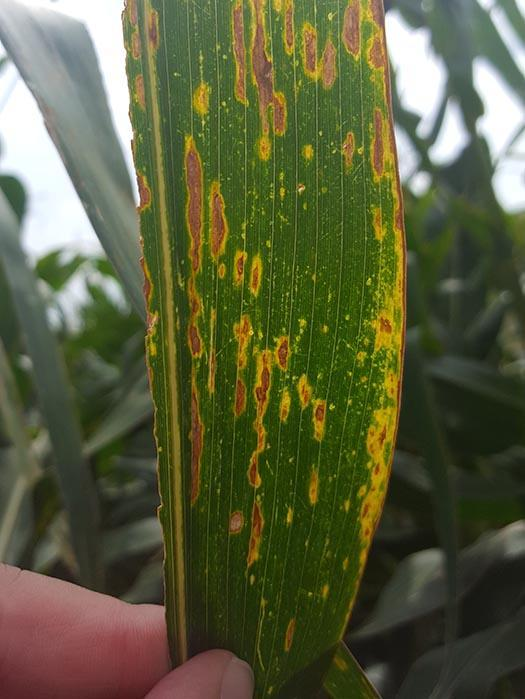Corn_Blight: (126, 243, 342, 659), (220, 5, 429, 254), (106, 14, 217, 240), (359, 296, 445, 581)
